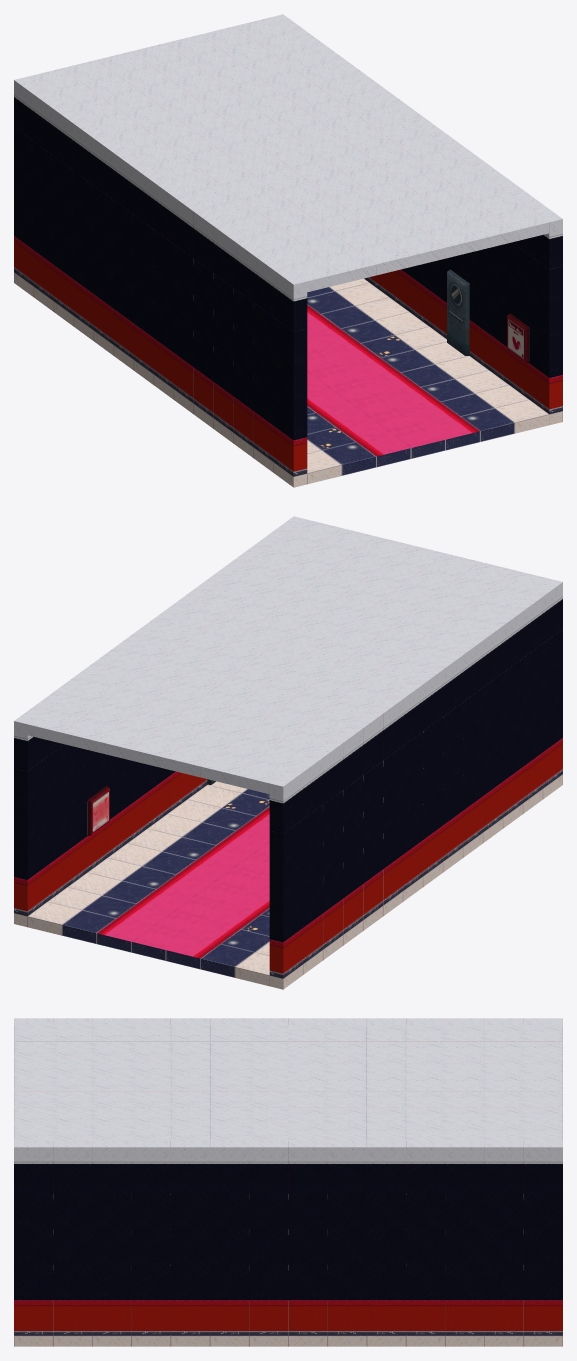
The model's file is CinemaHallCelling.fbx.
3 renders of one model, top to bottom at view 1: azimuth 30°, elevation 25°; view 2: azimuth 150°, elevation 25°; view 3: azimuth 270°, elevation 25°, orthographic.
Parts seen in each view (by area): view 1: Hall; view 2: Hall; view 3: Hall.
Boxes of the visible parts, x1,y1,x2,y2 form: Hall: (14, 14, 562, 487); Hall: (14, 516, 562, 989); Hall: (14, 1018, 562, 1346).
Bounding box in the file's own units: 778 × 560 × 1400.
